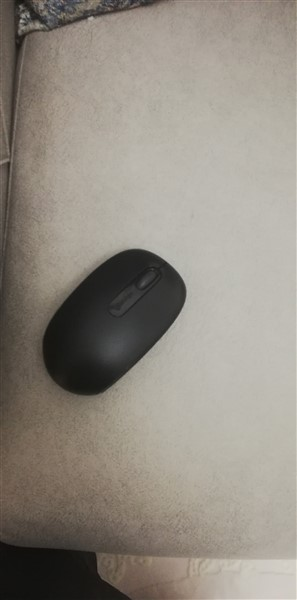mouse: (34, 242, 188, 406)
